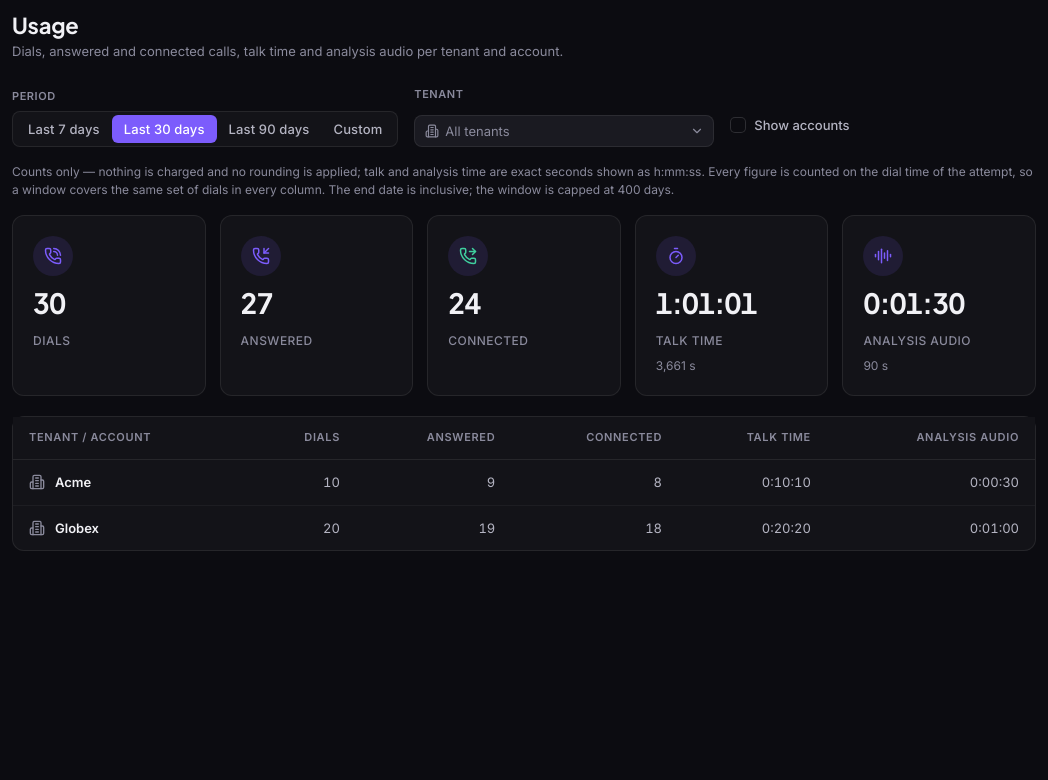
Test: SAUsagePage › lists a row per tenant, and account rows only when "Show accounts" is on
Expected: the text "Acme" is shown, [55,472,91,493]
Expected: the text "Globex" is shown, [55,518,99,538]
Step 1. Click the checkbox labelled "Show accounts" → coordinates (738, 125), box [730,117,746,133]
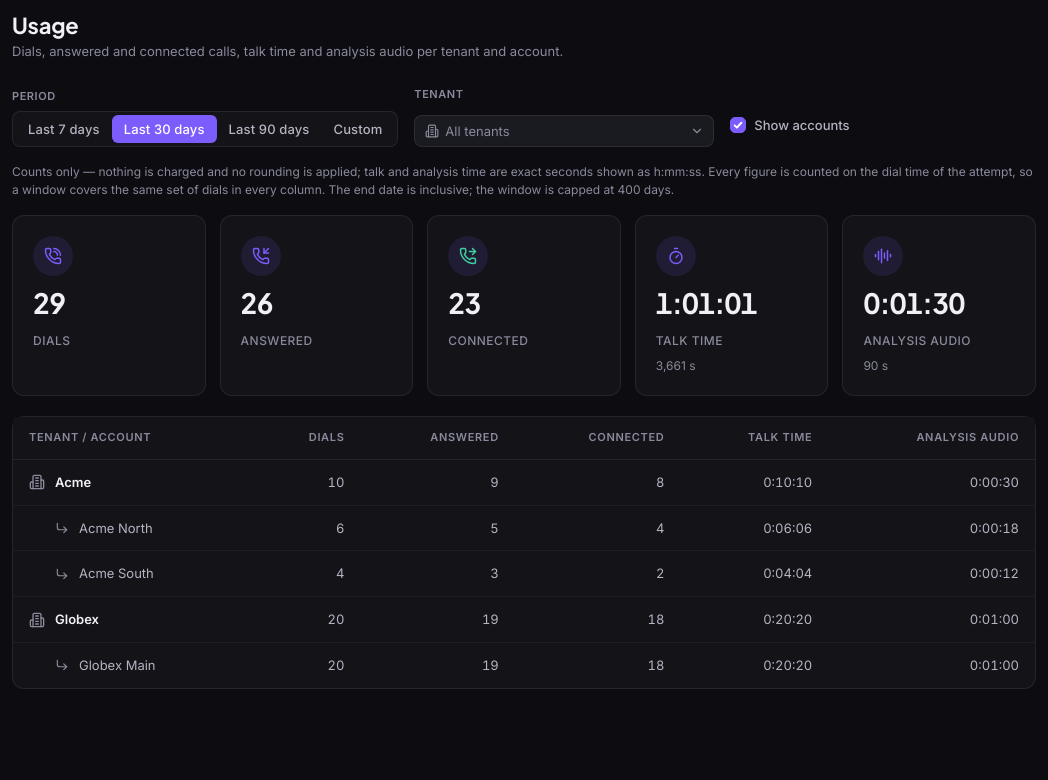
Expected: the text "Acme North" is shown, [79,518,153,538]
Expected: the text "Acme South" is shown, [79,564,154,584]
Expected: the text "Globex Main" is shown, [79,655,156,676]
